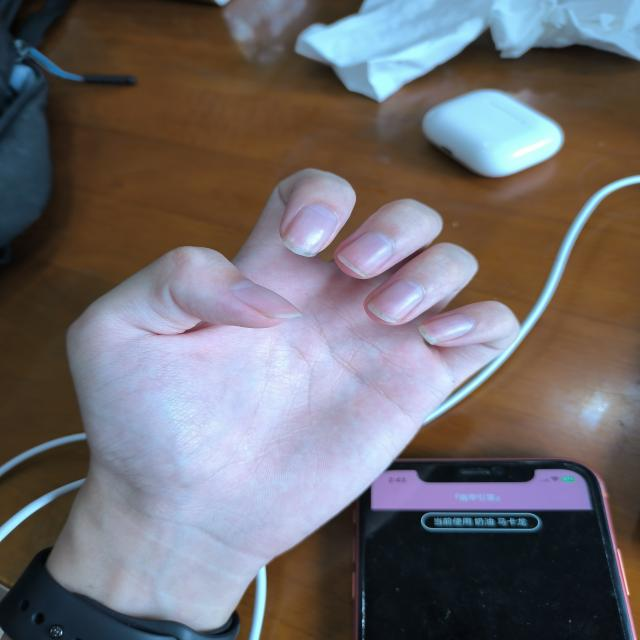Nail: (283, 205, 338, 257), (232, 282, 303, 318), (338, 232, 394, 277), (368, 280, 424, 322), (419, 314, 474, 344)
